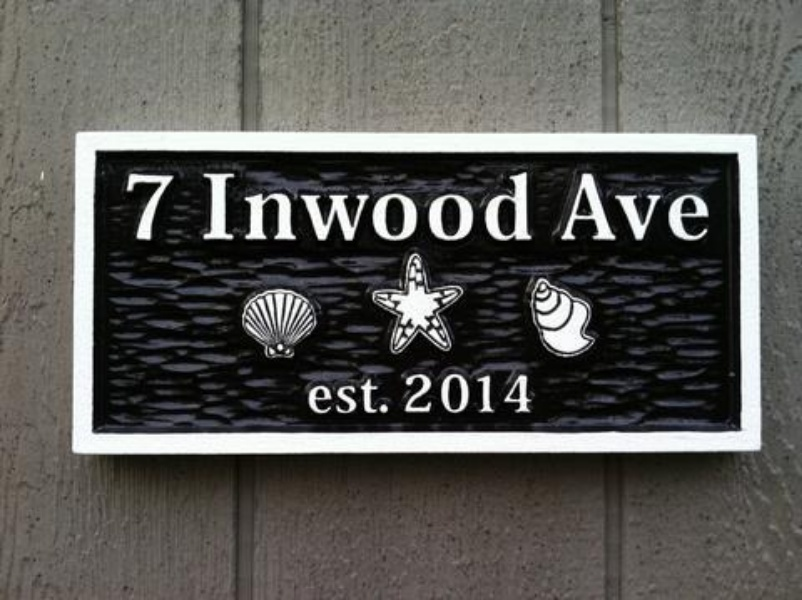text: (209, 171, 224, 241), (225, 171, 240, 241), (241, 171, 256, 241), (257, 171, 272, 241), (273, 171, 288, 241), (289, 171, 304, 241), (305, 171, 320, 241), (321, 171, 336, 241), (337, 171, 352, 241), (353, 171, 368, 241), (369, 171, 384, 241), (385, 171, 400, 241), (401, 171, 416, 241), (417, 171, 432, 241), (433, 171, 448, 241), (449, 171, 464, 241), (465, 171, 480, 241), (481, 171, 496, 241), (497, 171, 512, 241), (513, 171, 528, 241), (129, 173, 144, 241), (145, 173, 160, 241), (161, 173, 176, 241), (561, 173, 576, 241), (577, 173, 592, 241), (593, 173, 608, 241), (609, 173, 624, 241), (625, 173, 640, 241), (641, 173, 656, 241), (657, 173, 672, 241), (673, 173, 688, 241), (689, 173, 704, 241), (417, 372, 432, 415), (433, 372, 448, 415), (449, 372, 464, 415), (465, 372, 480, 415), (481, 372, 496, 415), (497, 372, 512, 415), (513, 372, 528, 415), (321, 377, 336, 417), (337, 377, 352, 417), (353, 377, 368, 417), (369, 377, 384, 417), (308, 377, 320, 417), (405, 372, 416, 415), (705, 173, 711, 241), (203, 171, 208, 241), (529, 171, 532, 241), (385, 377, 390, 417), (529, 372, 533, 415), (126, 173, 128, 241), (559, 173, 560, 241)
